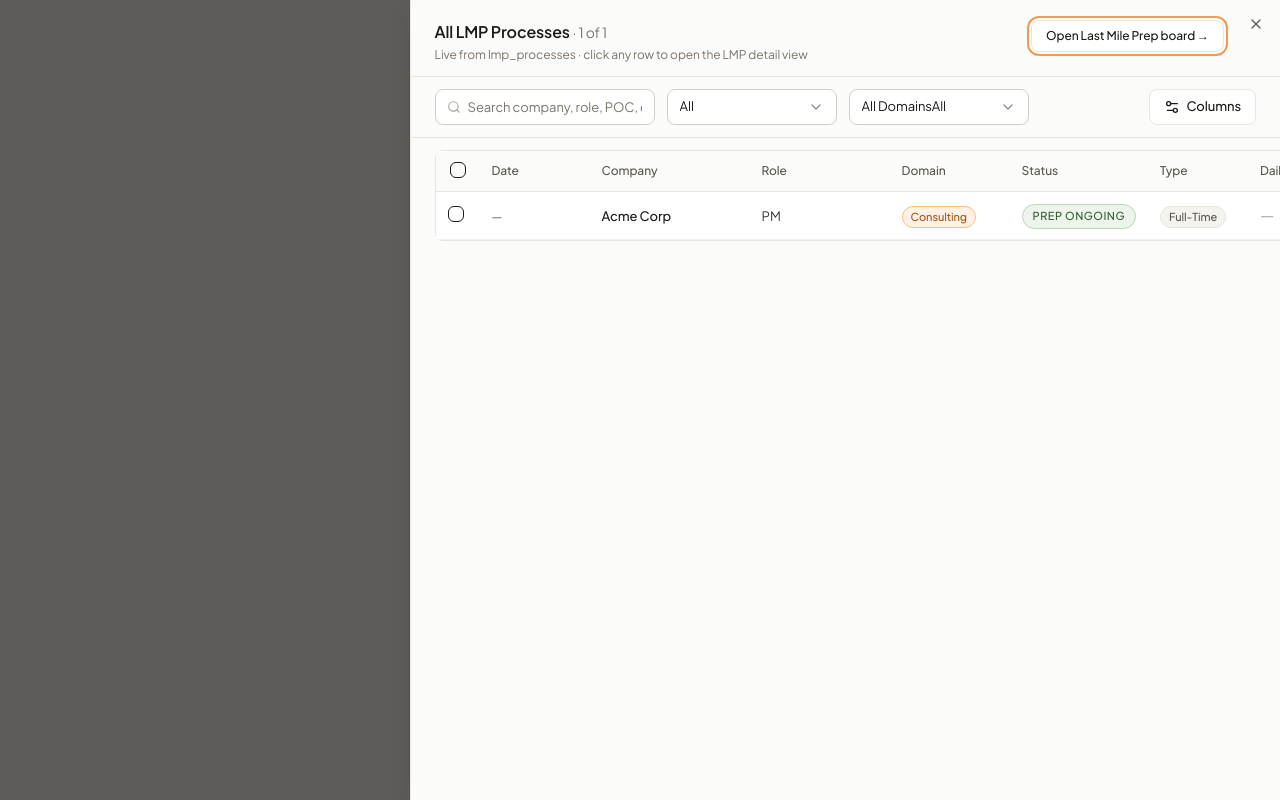
Scenario: ViewAllLmpsModal – readOnly prop › shows bulk-action toolbar with readOnly={false} after selecting a row
Click the checkbox named "Select Acme Corp". click: (456, 214)
box: [448,206,464,222]
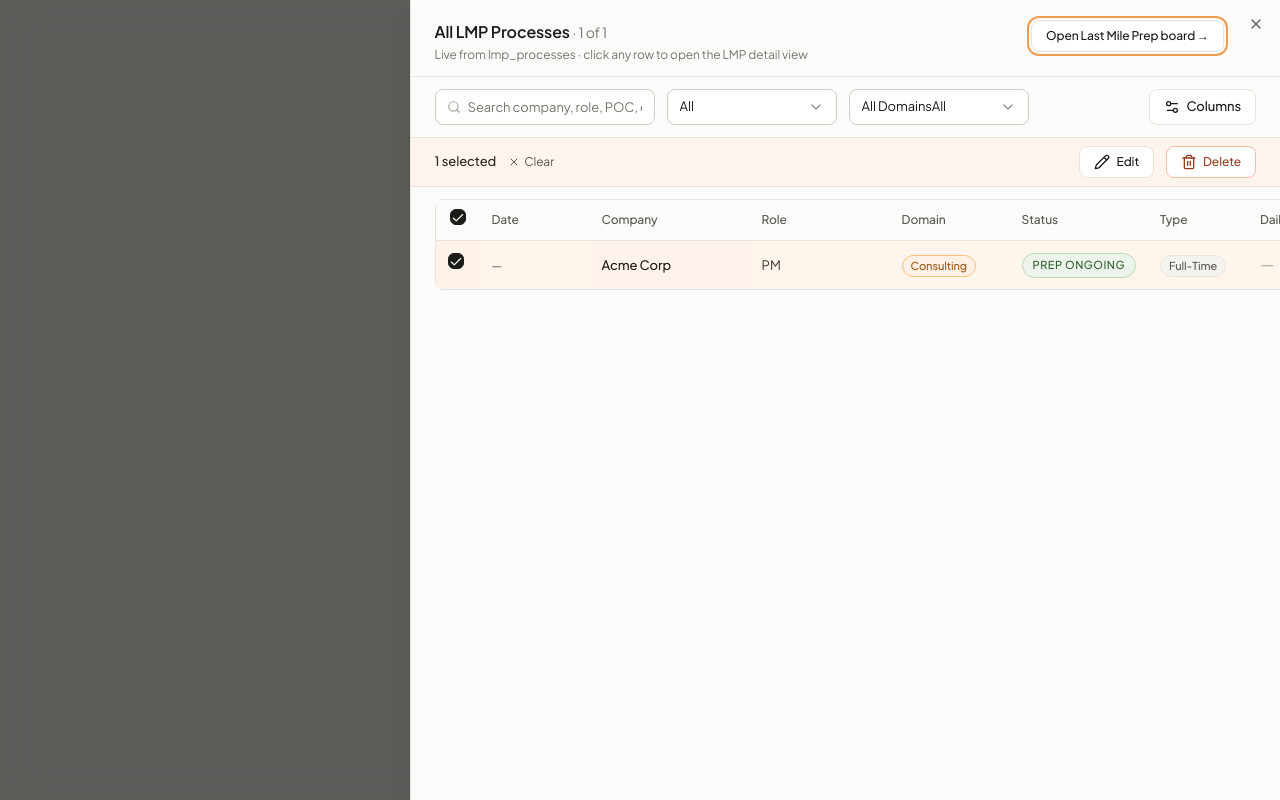
Now the button "Delete" is shown, box [1166,146,1256,178]
Now the button "Edit" is shown, box [1080,146,1154,178]
